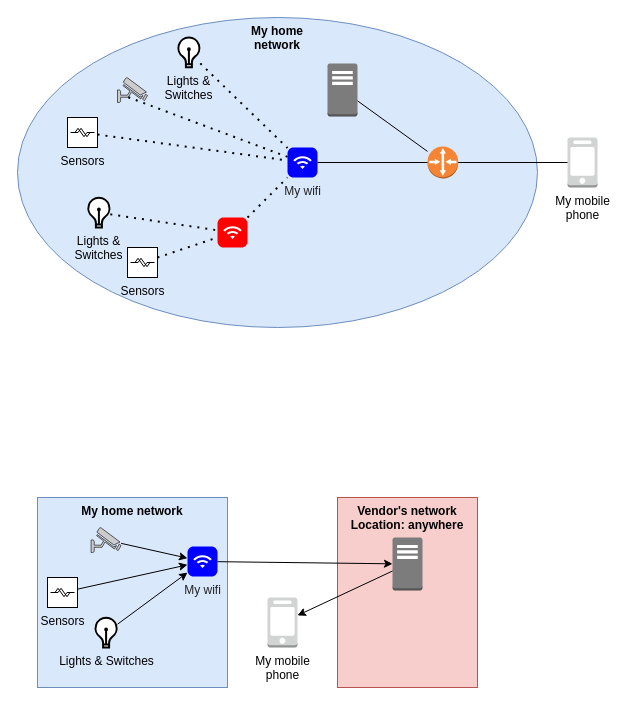
Image size: 627x705. Some labels were removed from this diagram. The centre of each missing label's shape, as x and y in pixels:
"Cameras" goes at point 132,89.
"Home controller" goes at point 342,89.
"Internet router" goes at point 442,162.
"Sensor gateway Zigbee?" goes at point 232,232.
"Vendor servers" goes at point 407,563.
"Wifi Camera" goes at point 106,539.
